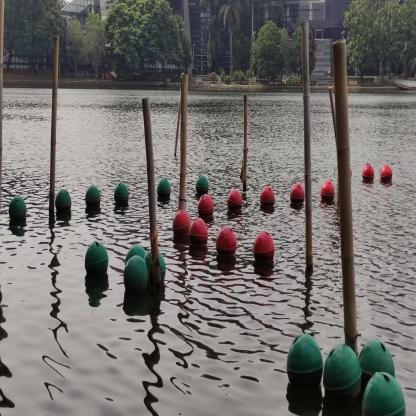green_buoy: (285, 332, 323, 395), (324, 346, 362, 400), (362, 371, 406, 416), (359, 334, 396, 386), (85, 240, 109, 277), (124, 256, 148, 293), (144, 246, 166, 284), (8, 195, 27, 224), (125, 244, 146, 264), (156, 178, 172, 202), (55, 190, 72, 212), (114, 183, 130, 206), (85, 186, 101, 208), (195, 173, 210, 194)
red_buoy: (252, 231, 275, 268), (216, 224, 236, 258), (188, 216, 208, 249), (172, 208, 190, 239), (318, 180, 336, 206), (259, 184, 276, 209), (197, 194, 214, 219), (288, 183, 305, 207), (227, 188, 243, 213), (379, 162, 395, 186), (362, 162, 375, 186)
